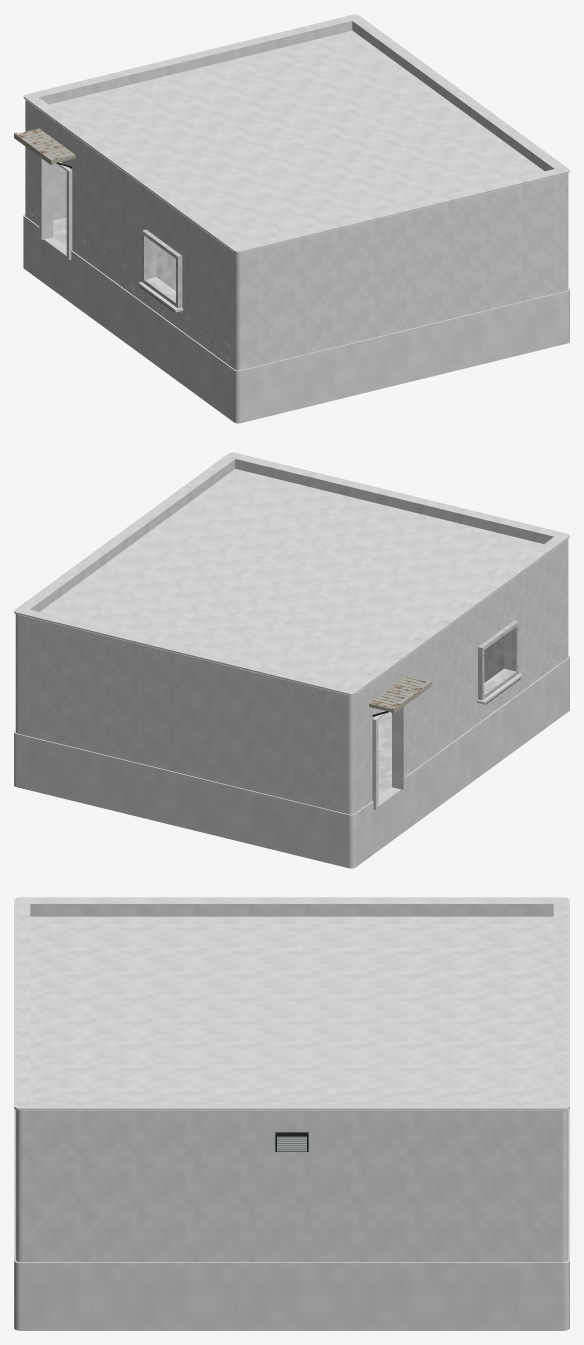
The picture shows the model from 3 angles, top to bottom: view 1: azimuth 30°, elevation 25°; view 2: azimuth 150°, elevation 25°; view 3: azimuth 270°, elevation 25°; orthographic projection. The views are drawn at different scales.
Parts seen in each view (by area): view 1: SM_Homes_H03_Shell, SM_Homes_H03_Roof, SM_Homes_H03_Fixtures; view 2: SM_Homes_H03_Shell, SM_Homes_H03_Roof, SM_Homes_H03_Fixtures; view 3: SM_Homes_H03_Roof, SM_Homes_H03_Shell, SM_Homes_H03_Fixtures.
Boxes of the visible parts, x1=… form: SM_Homes_H03_Shell: x1=23, y1=109, x2=569, y2=423; SM_Homes_H03_Roof: x1=23, y1=14, x2=569, y2=262; SM_Homes_H03_Fixtures: x1=14, y1=128, x2=228, y2=360; SM_Homes_H03_Shell: x1=14, y1=548, x2=569, y2=868; SM_Homes_H03_Roof: x1=14, y1=452, x2=569, y2=704; SM_Homes_H03_Fixtures: x1=360, y1=620, x2=561, y2=810; SM_Homes_H03_Roof: x1=14, y1=897, x2=569, y2=1123; SM_Homes_H03_Shell: x1=14, y1=1108, x2=569, y2=1330; SM_Homes_H03_Fixtures: x1=275, y1=1132, x2=308, y2=1151.
Bounding box in the file's own units: 9.75 × 4.44 × 10.06.
11 materials, 9 textured.
